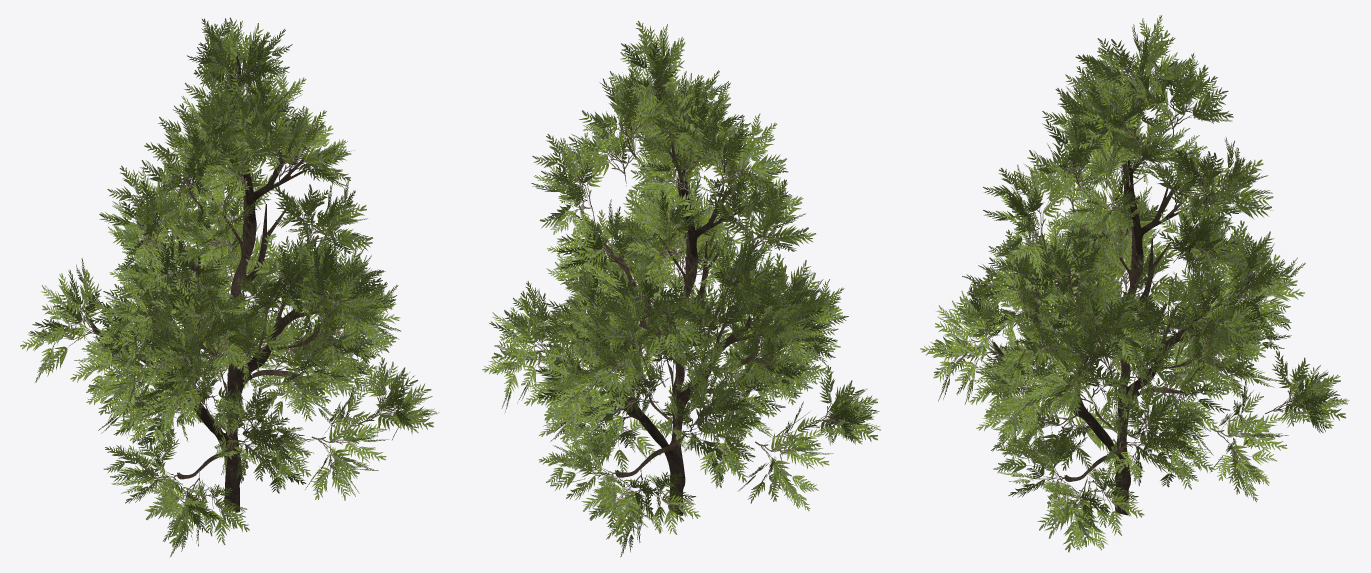
File: arvore_folhosa.glb
The picture shows the model from 3 angles, left to right: view 1: azimuth 30°, elevation 25°; view 2: azimuth 150°, elevation 25°; view 3: azimuth 270°, elevation 25°; orthographic projection. The views are drawn at different scales.
Parts seen in each view (by area): view 1: arvore_folhosa; view 2: arvore_folhosa; view 3: arvore_folhosa.
Part boxes in pixels (x1,y1,x2,y2): arvore_folhosa: [20, 17, 439, 556]; arvore_folhosa: [482, 20, 880, 557]; arvore_folhosa: [920, 15, 1349, 552].
Size of the model in its own units: 7.21 by 10 by 7.96.
2 materials, 2 textured.
